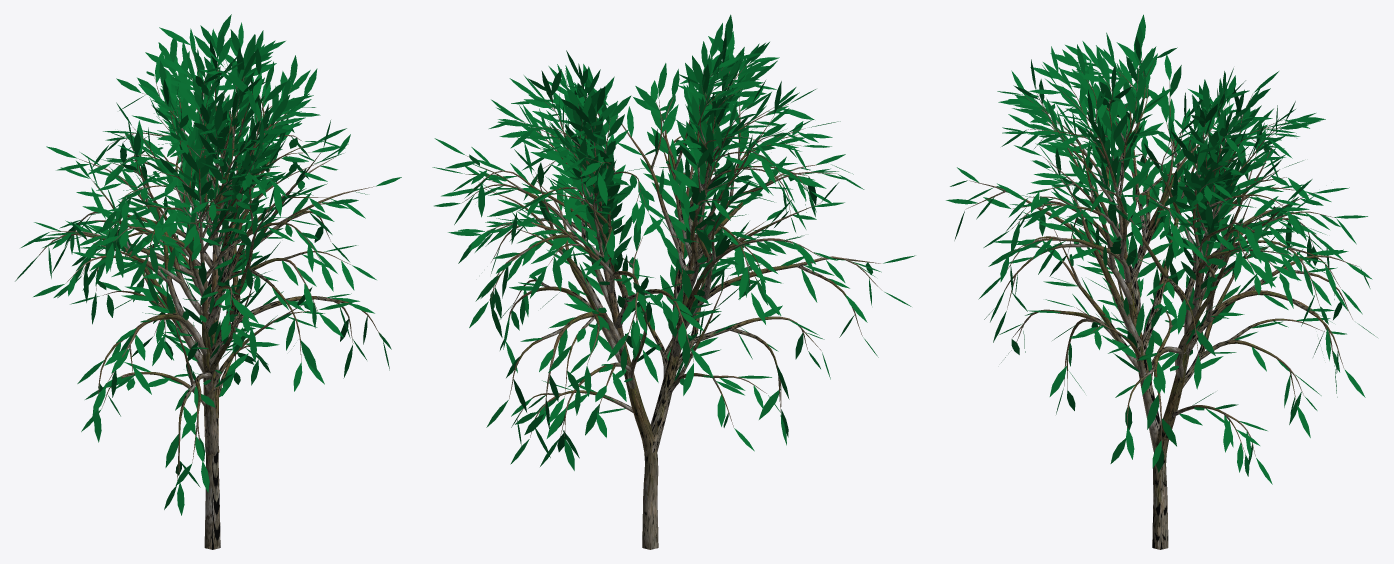
File: Tree1.fbx
3 renders of one model, left to right at view 1: azimuth 30°, elevation 25°; view 2: azimuth 150°, elevation 25°; view 3: azimuth 270°, elevation 25°, orthographic. The views are drawn at different scales.
Parts seen in each view (by area): view 1: leaves.001, tree.001; view 2: leaves.001, tree.001; view 3: leaves.001, tree.001.
Boxes of the visible parts, x1,y1,x2,y2 form: leaves.001: (15,14,401,515); tree.001: (39,47,382,549); leaves.001: (432,14,915,470); tree.001: (461,54,882,549); leaves.001: (946,14,1377,484); tree.001: (965,57,1359,549).
Bounding box in the file's own units: 532 × 672 × 529.
